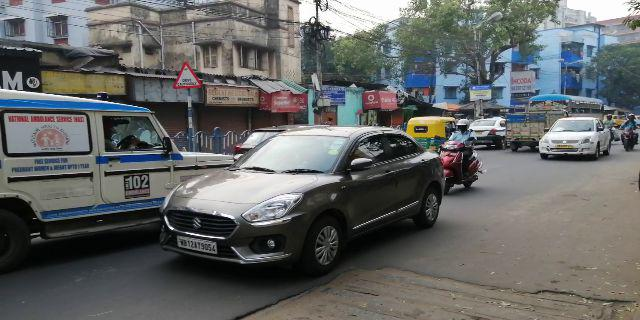Car: (166, 133, 446, 274), (1, 101, 238, 244), (536, 117, 615, 161)
Motorbike: (443, 132, 481, 184)
